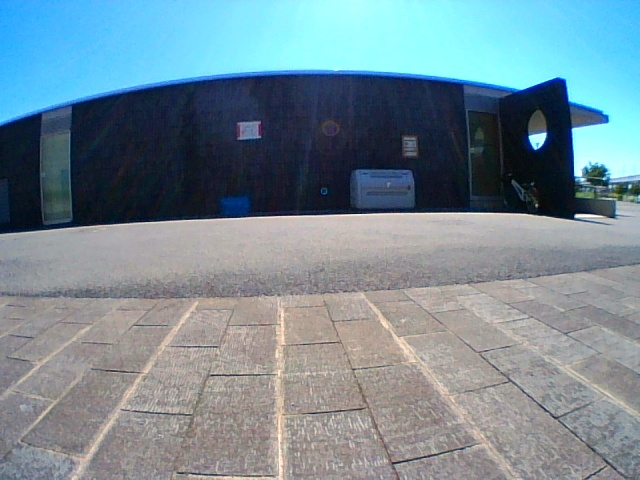blue_box: (220, 197, 249, 215)
